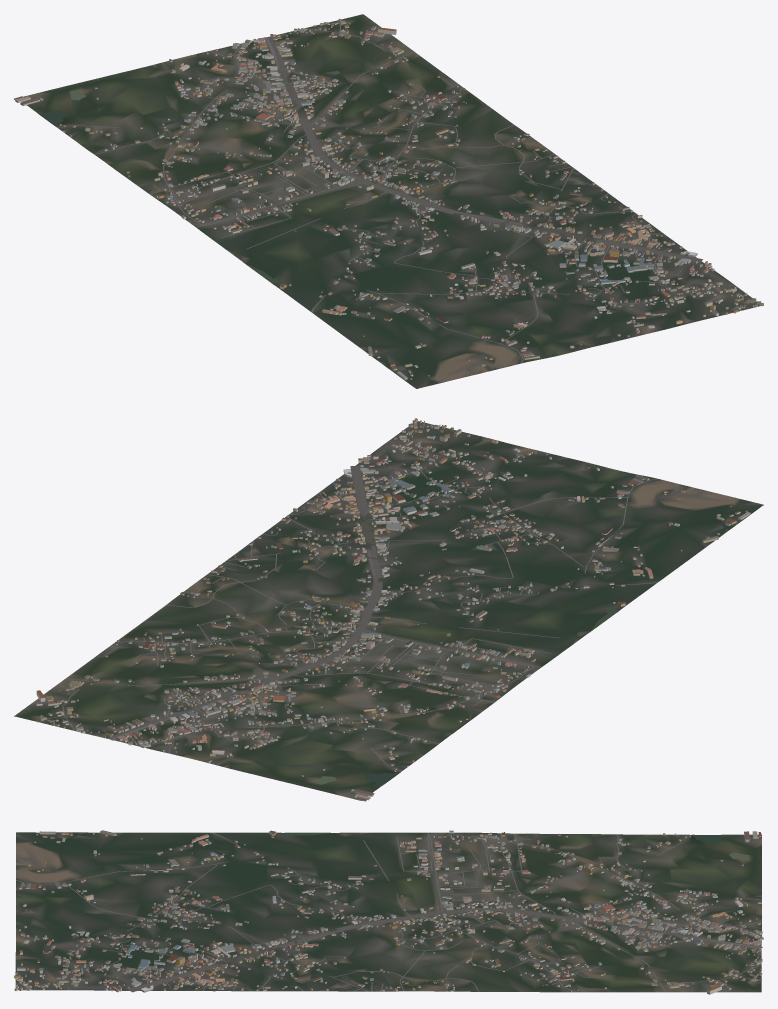
3 views of the same model, one above another, from view 1: azimuth 30°, elevation 25°; view 2: azimuth 150°, elevation 25°; view 3: azimuth 270°, elevation 25° (orthographic). The views are drawn at different scales.
Parts seen in each view (by area): view 1: ground, buildings, roads; view 2: ground, buildings, roads; view 3: ground, buildings, roads, water.
Part boxes in pixels (left/top/right/bottom): ground: left=22, top=14, right=761, bottom=388; buildings: left=14, top=19, right=763, bottom=379; roads: left=29, top=20, right=756, bottom=382; ground: left=14, top=421, right=763, bottom=800; buildings: left=36, top=418, right=750, bottom=801; roads: left=39, top=424, right=735, bottom=797; ground: left=15, top=832, right=761, bottom=992; buildings: left=14, top=830, right=763, bottom=994; roads: left=16, top=832, right=762, bottom=992; water: left=284, top=832, right=749, bottom=860.
Bounding box in the file's own units: 1440 × 32 × 2819.
